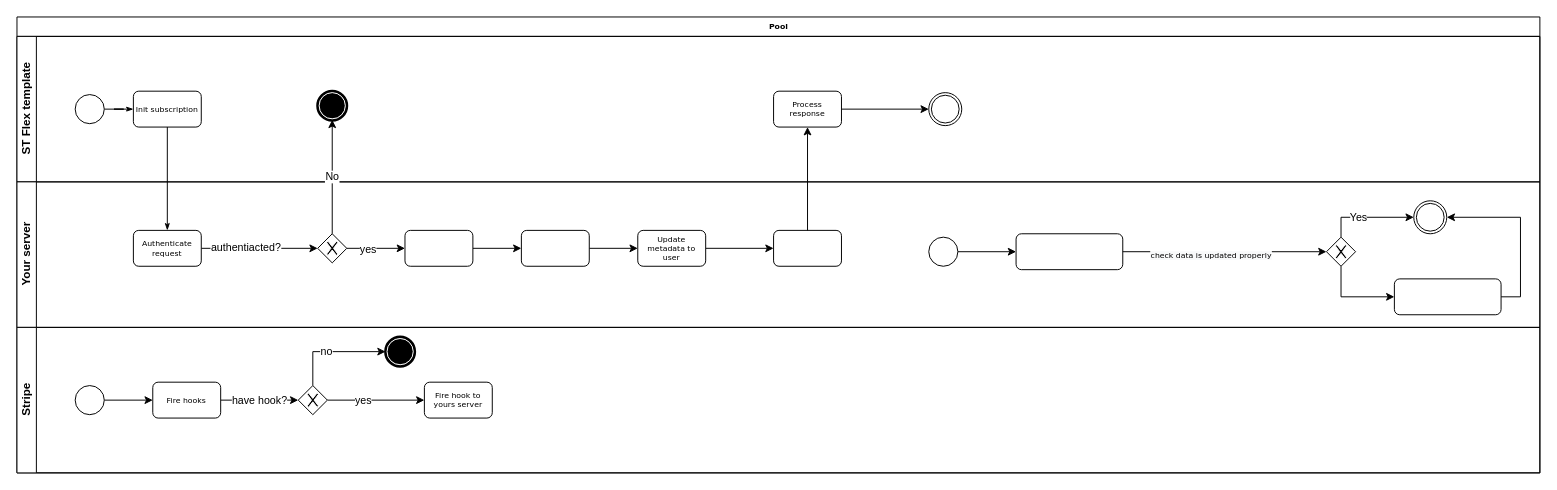
This 1557x490 diagram has some shape labels left out. The shapes that lost their labels are listed below. From the top down, each one's centre as x and y in pixels, then its label:
At point 438,247: "Calculate subscription item".
At point 554,247: "Init on Stripe".
At point 807,247: "Normalise data".
At point 1069,251: "Receive subscription start hook".
At point 1447,296: "Update metadata".
